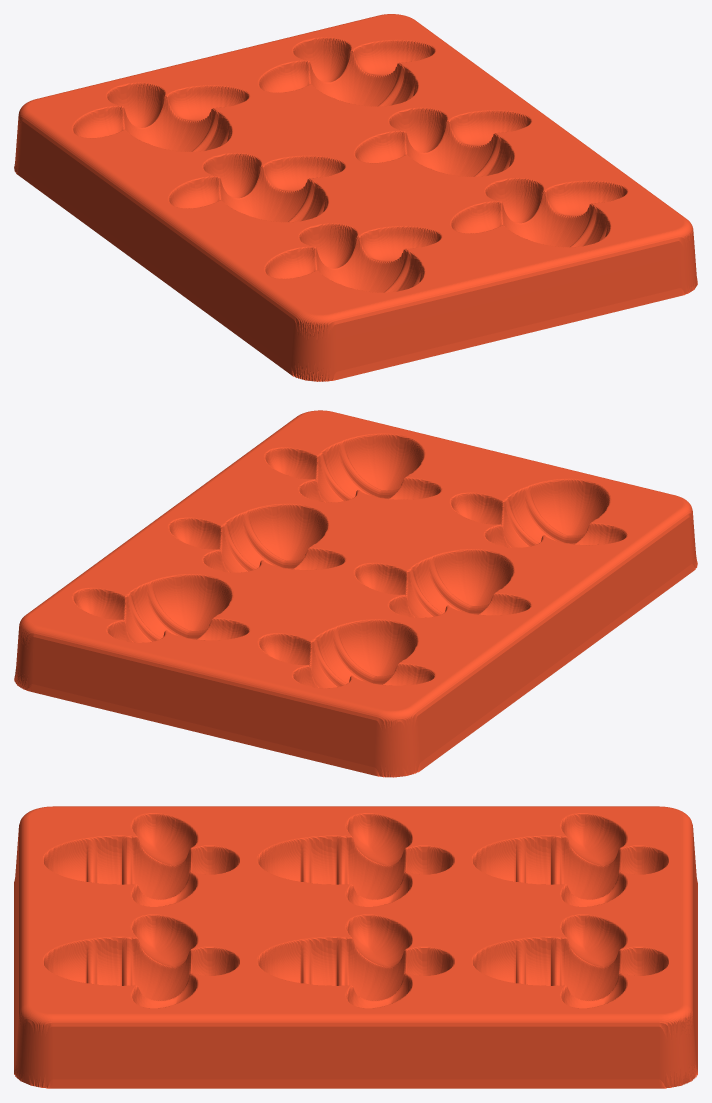
The model's file is mold.glb.
3 views of the same model, one above another, from view 1: azimuth 30°, elevation 25°; view 2: azimuth 150°, elevation 25°; view 3: azimuth 270°, elevation 25° (orthographic). The views are drawn at different scales.
Parts seen in each view (by area): view 1: geometry_0; view 2: geometry_0; view 3: geometry_0.
Boxes of the visible parts, x1,y1,x2,y2 form: geometry_0: (14, 14, 697, 381); geometry_0: (14, 410, 697, 777); geometry_0: (14, 806, 697, 1088).
Bounding box in the file's own units: 0.1211 × 0.0175 × 0.1595.
